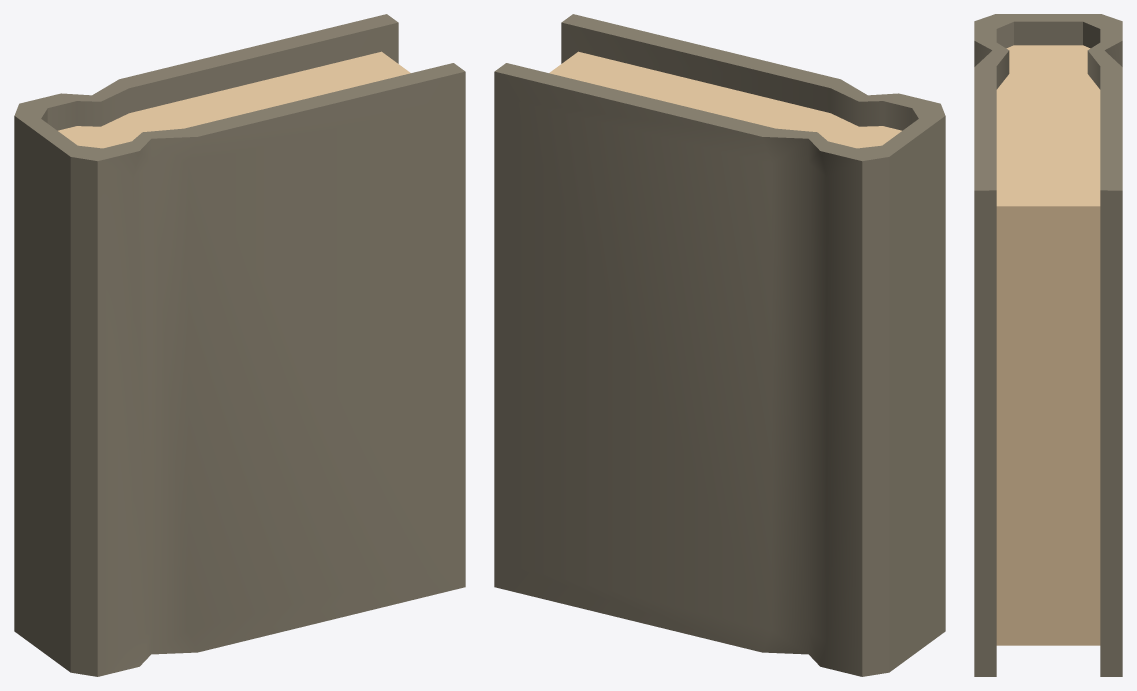
The model's file is prop_libro2.fbx.
3 renders of one model, left to right at view 1: azimuth 30°, elevation 25°; view 2: azimuth 150°, elevation 25°; view 3: azimuth 270°, elevation 25°, orthographic. The views are drawn at different scales.
Visible parts, largest first — view 1: prop_libro2; view 2: prop_libro2; view 3: prop_libro2.
Boxes of the visible parts, x1,y1,x2,y2 form: prop_libro2: (14,14,465,676); prop_libro2: (494,14,945,676); prop_libro2: (974,14,1122,676).
Size of the model in its own units: 24.13 by 31.01 by 8.56.
